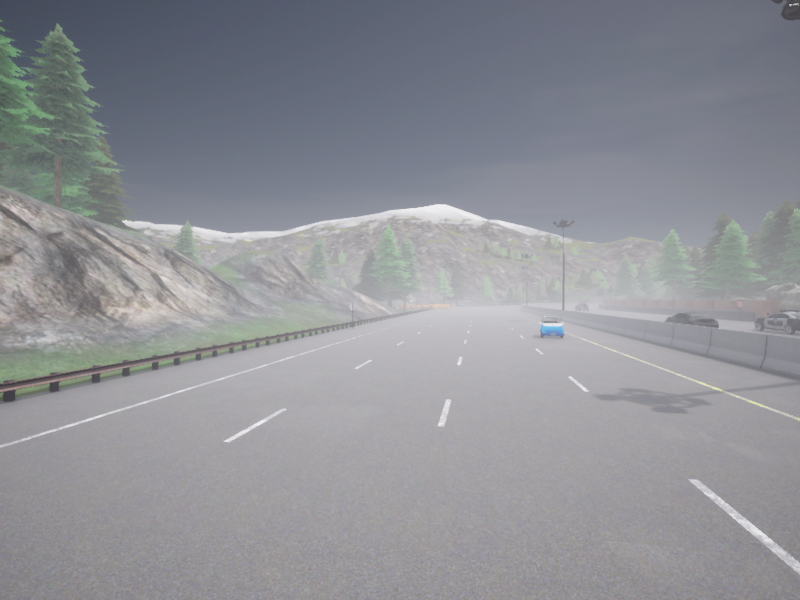vehicle: (755, 310, 799, 333), (664, 312, 718, 327), (539, 316, 563, 338), (575, 303, 588, 310)
